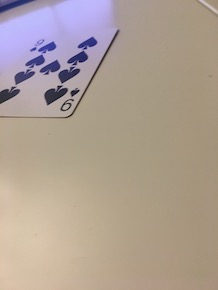NineOfSpades: (1, 24, 121, 120)
